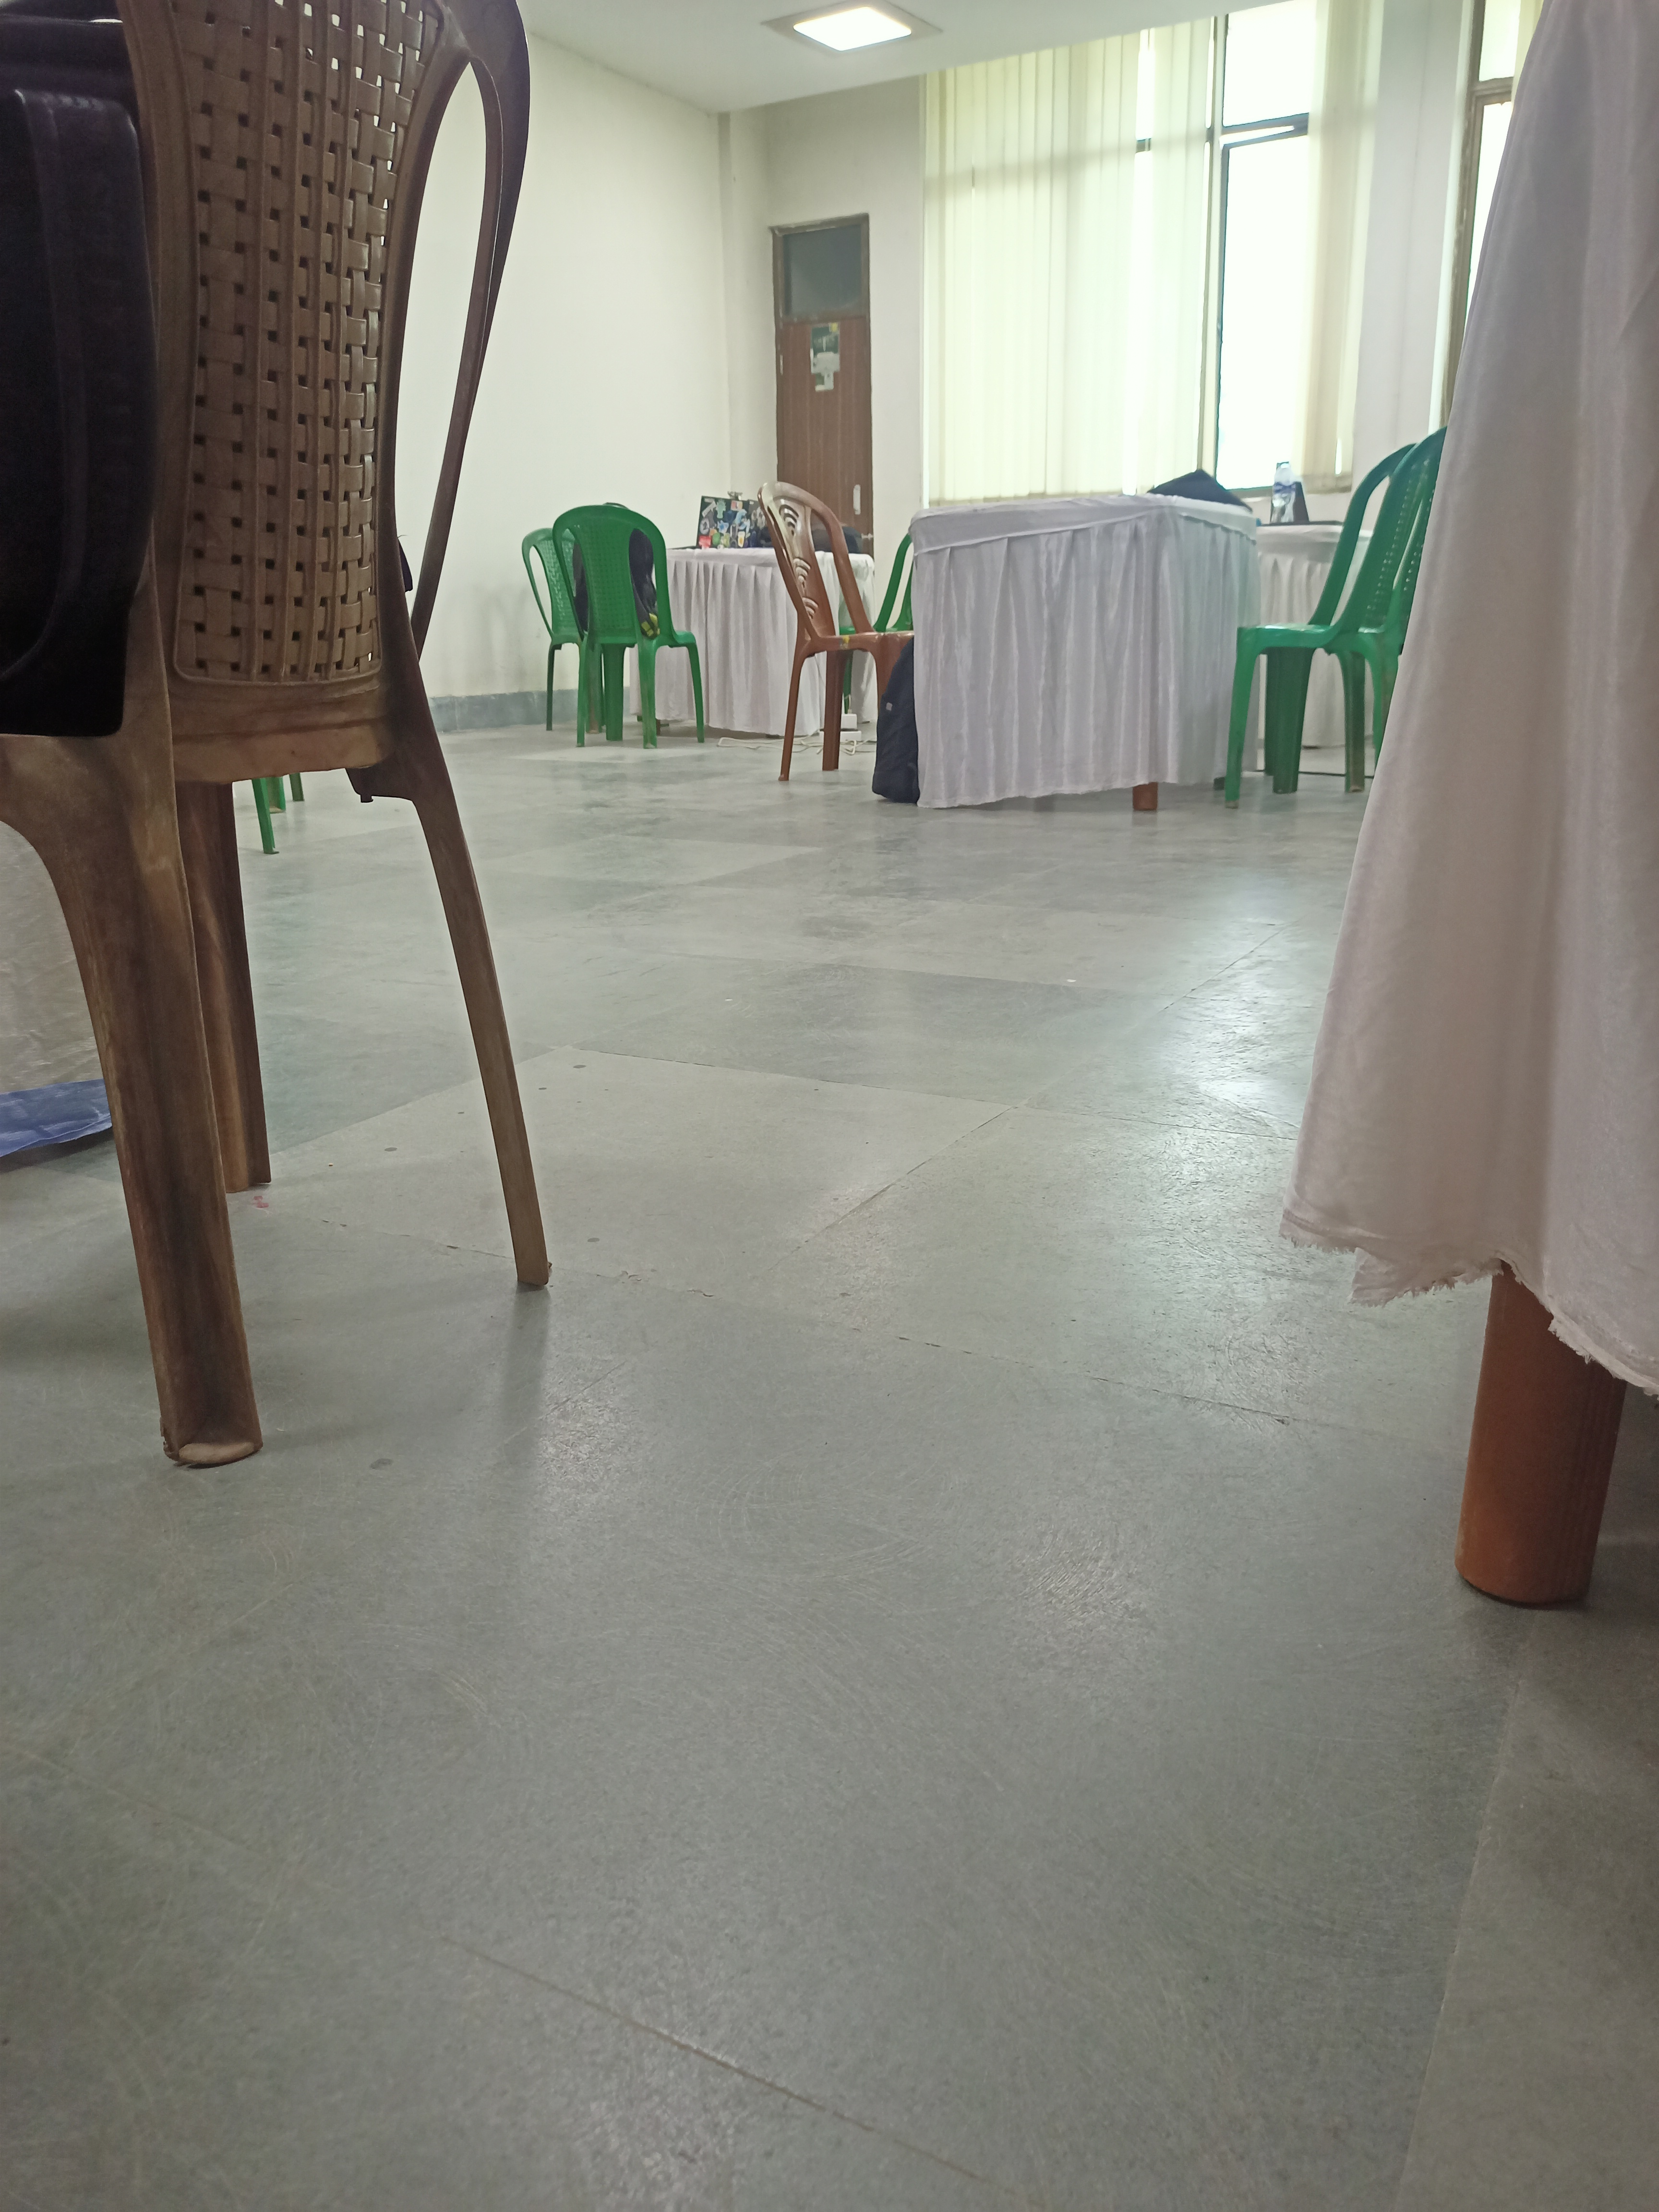Obstacle: (0, 0, 559, 1480), (1356, 408, 1659, 1559)
Path: (504, 765, 1399, 2045)
